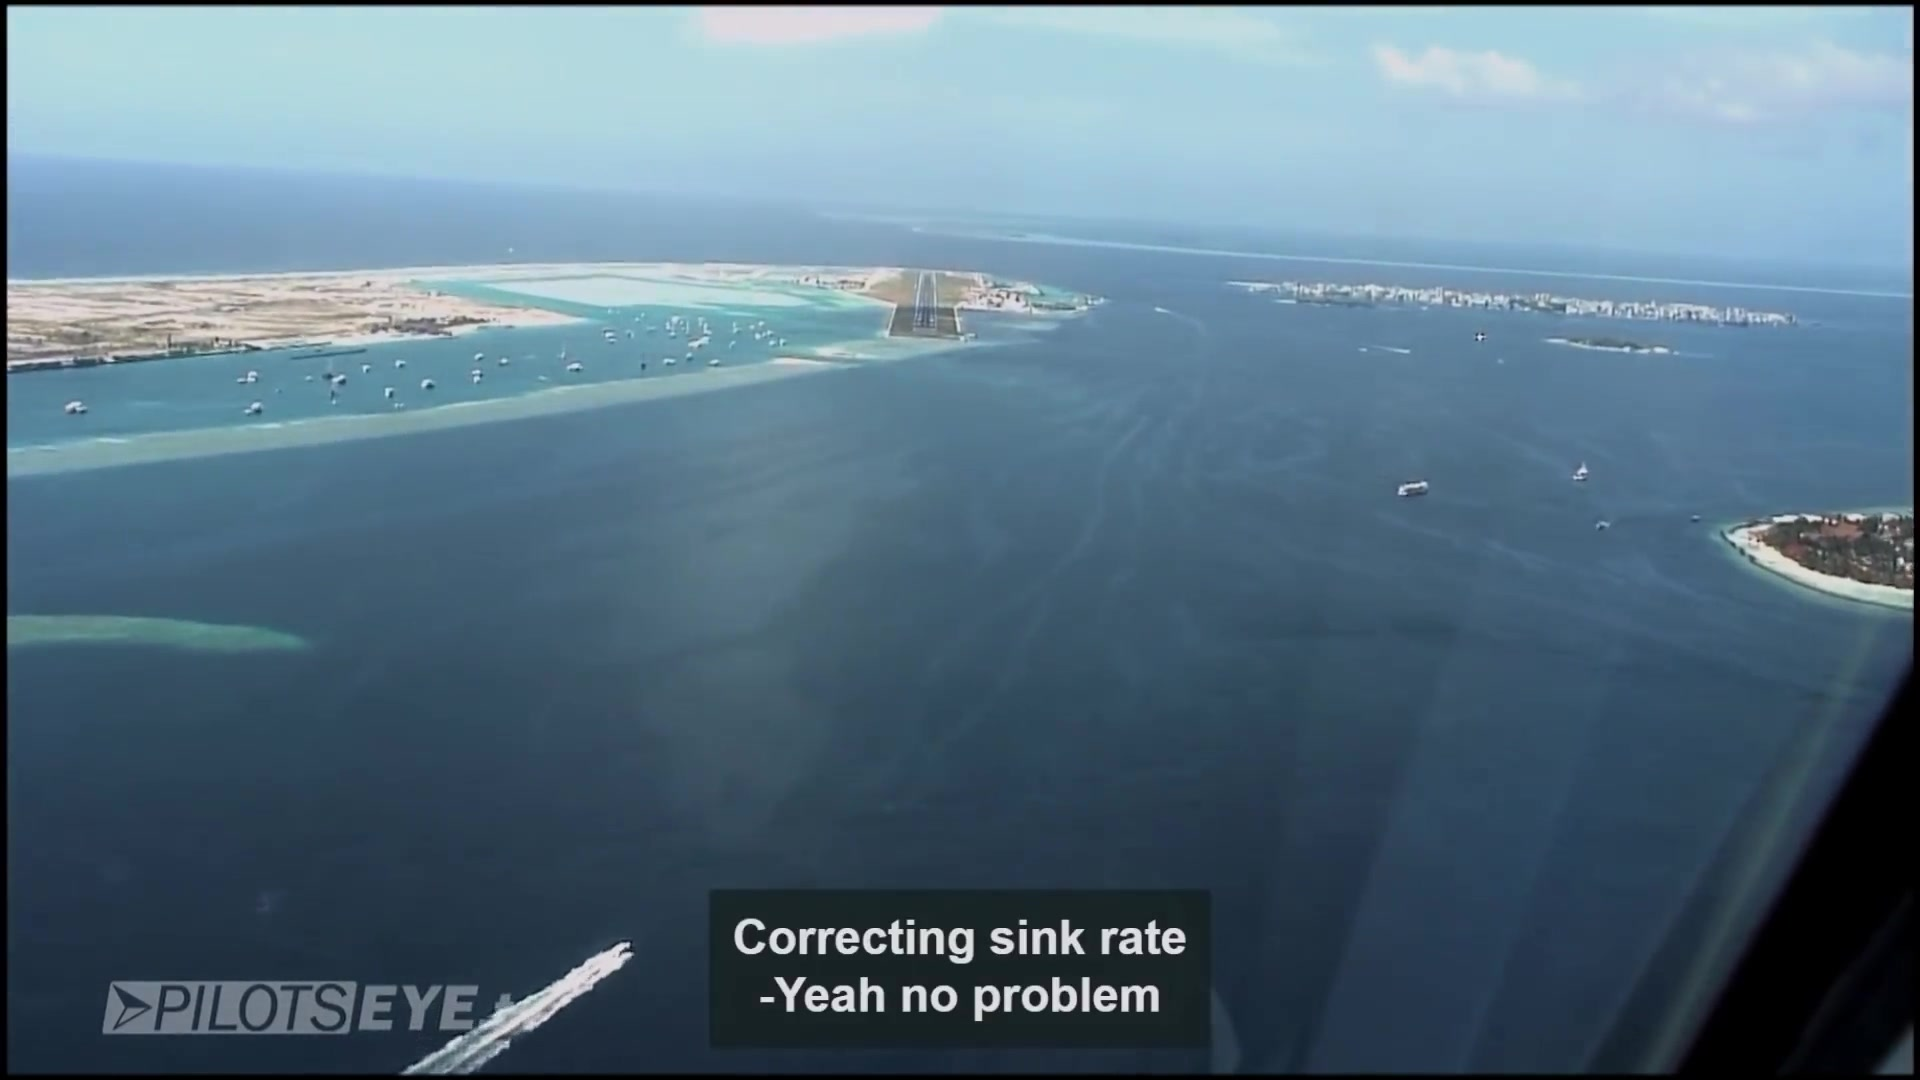runway: (911, 269, 938, 332)
